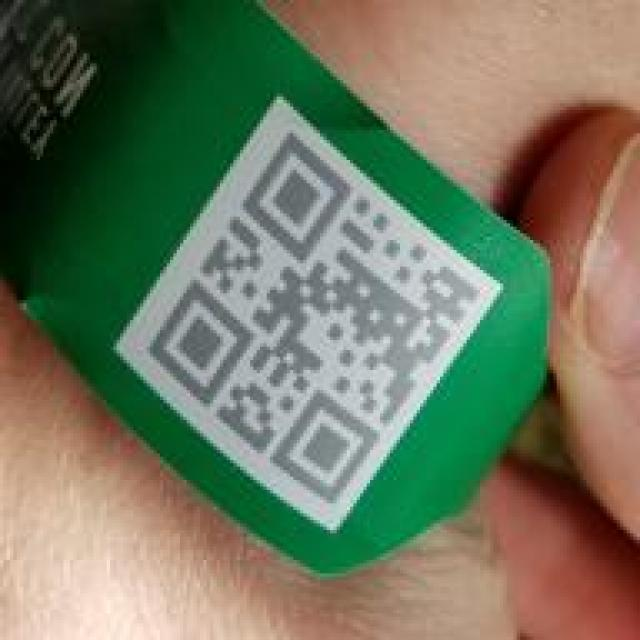QR_CODE: (138, 120, 487, 515)
